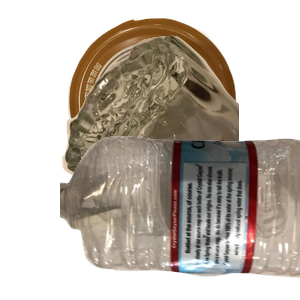glass: (60, 33, 300, 213)
metal: (66, 15, 297, 193)
plastic: (60, 134, 300, 300)
trash: (95, 157, 282, 300)
